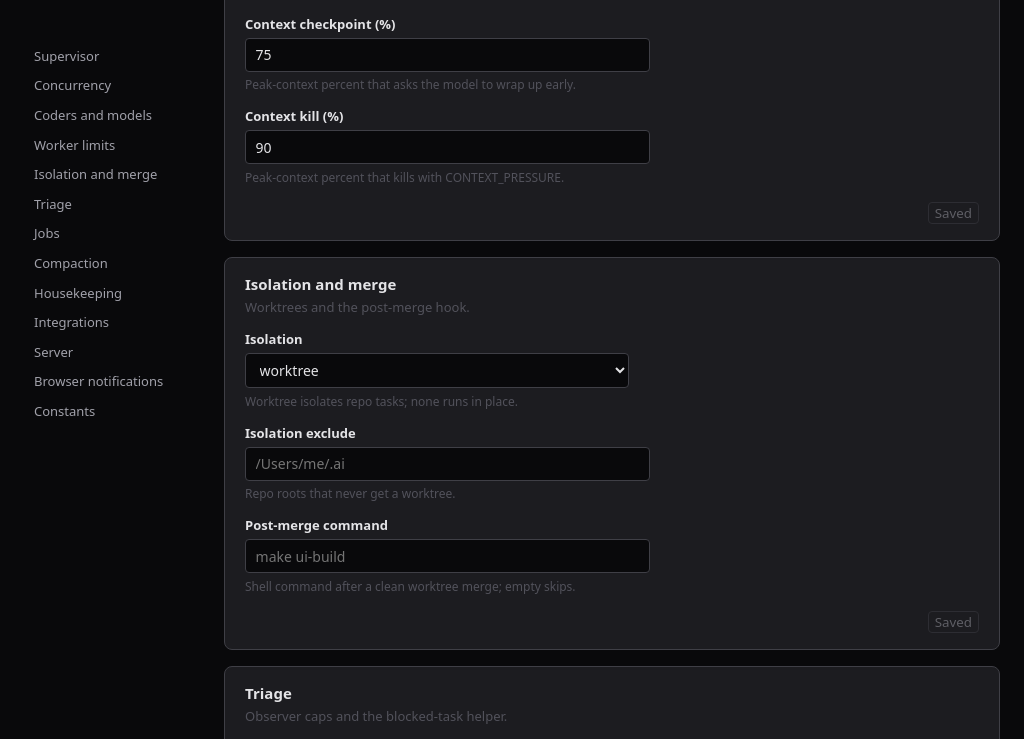
Test: settings save › shows PUT validation errors next to the field
(page scrolled)
Select "none" in the dropdown: x=437, y=370 [245,352,629,388]
(page scrolled)
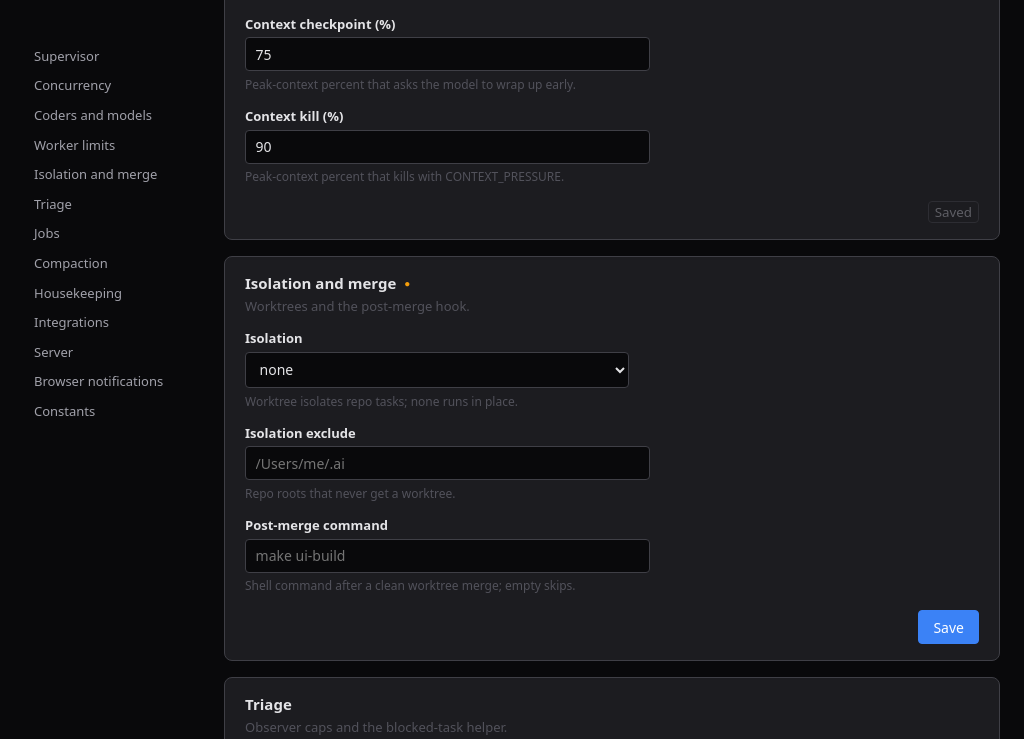
Click the button "Save": x=949, y=627 [918,610,979,644]
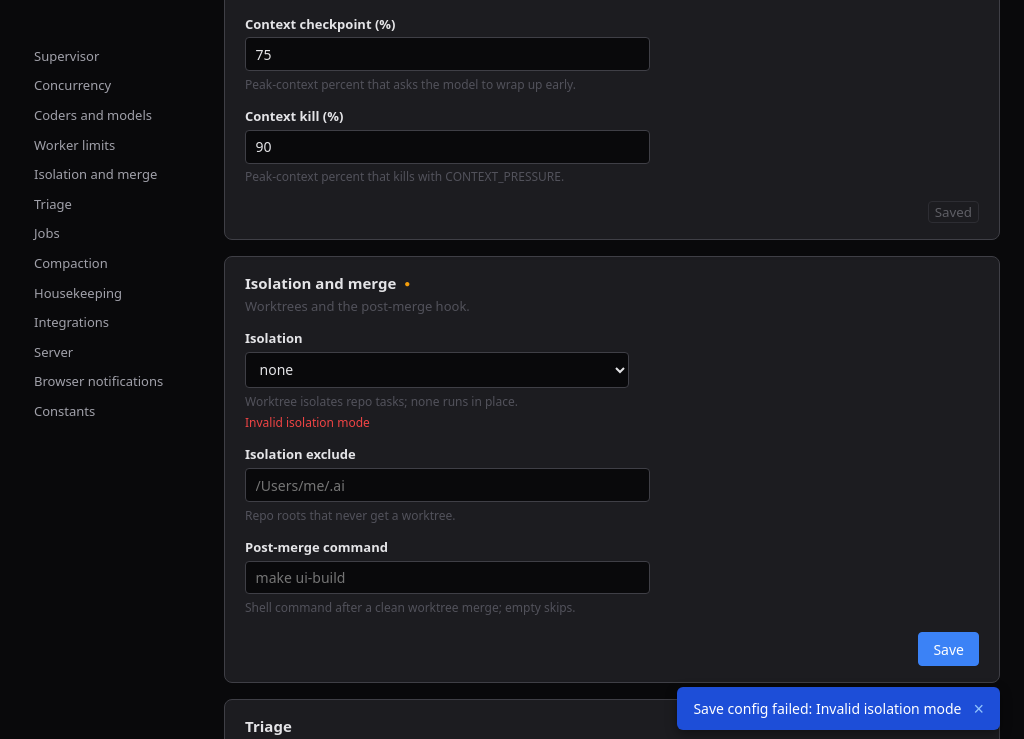
Expected: the text "Invalid isolation mode" is shown, [245,414,370,432]
